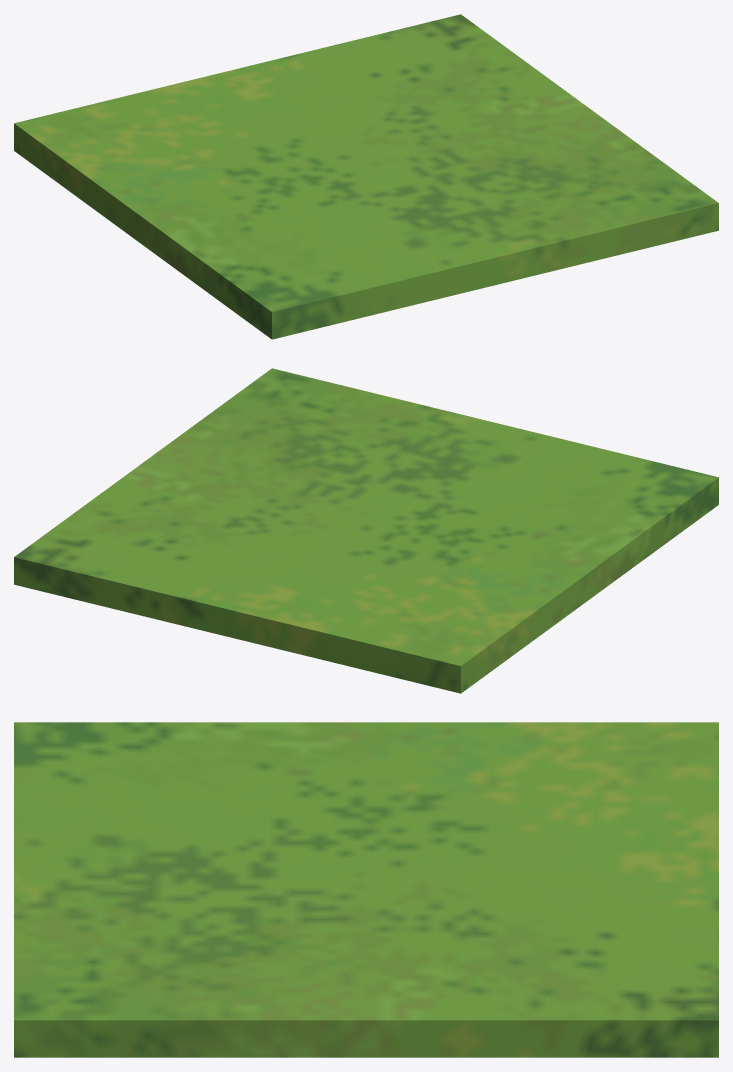
File: Top_Grass.obj
The picture shows the model from 3 angles, top to bottom: view 1: azimuth 30°, elevation 25°; view 2: azimuth 150°, elevation 25°; view 3: azimuth 270°, elevation 25°; orthographic projection. The views are drawn at different scales.
Visible parts, largest first — view 1: Top_Grass_Cube.012; view 2: Top_Grass_Cube.012; view 3: Top_Grass_Cube.012.
Part boxes in pixels (x1,y1,x2,y2): Top_Grass_Cube.012: (14, 14, 718, 339); Top_Grass_Cube.012: (14, 368, 718, 693); Top_Grass_Cube.012: (14, 722, 718, 1057).
Size of the model in its own units: 2 by 0.1175 by 2.
